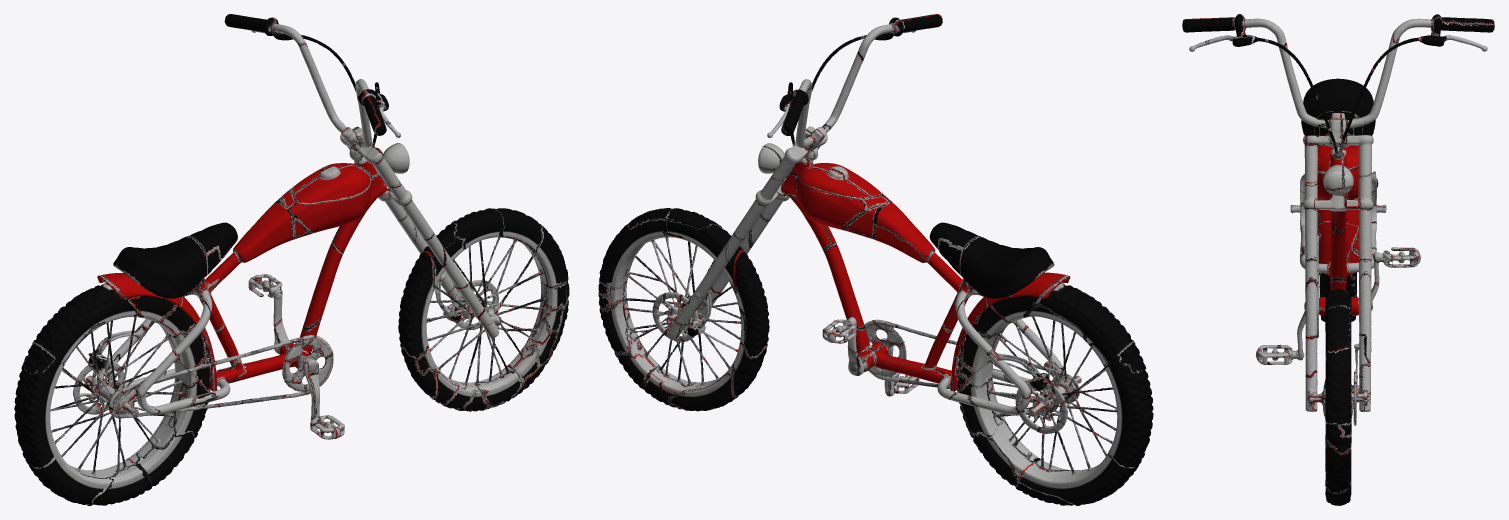
The model's file is pen-holder.glb.
3 views of the same model, side by side, from view 1: azimuth 30°, elevation 25°; view 2: azimuth 150°, elevation 25°; view 3: azimuth 270°, elevation 25° (orthographic).
Parts seen in each view (by area): view 1: tripo_node_184964c4-3f52-4731-a87a-0d86cd5dc664; view 2: tripo_node_184964c4-3f52-4731-a87a-0d86cd5dc664; view 3: tripo_node_184964c4-3f52-4731-a87a-0d86cd5dc664.
Boxes of the visible parts, box(x1,y1,x2,y2) form: tripo_node_184964c4-3f52-4731-a87a-0d86cd5dc664: box(14, 14, 569, 505); tripo_node_184964c4-3f52-4731-a87a-0d86cd5dc664: box(598, 14, 1153, 505); tripo_node_184964c4-3f52-4731-a87a-0d86cd5dc664: box(1182, 14, 1494, 505).
Size of the model in its own units: 1.6 by 1.11 by 0.7743.
Materials: 1 (1 with a texture image).
